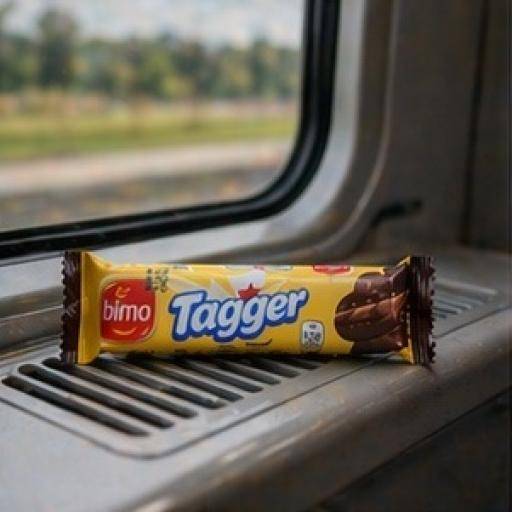tagger: (26, 186, 484, 417)
